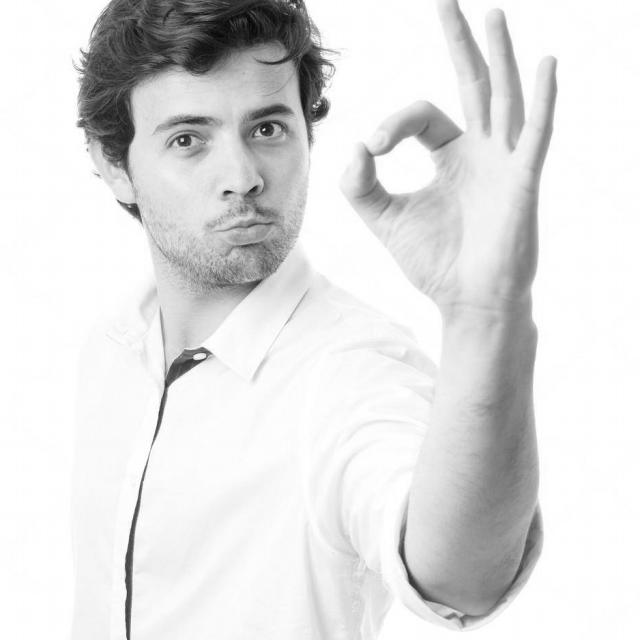perfect: (334, 0, 567, 325)
